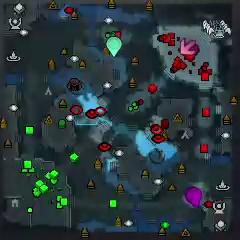p2: (106, 36, 122, 57)
p3: (185, 186, 202, 207)
x1: (180, 38, 196, 55)
